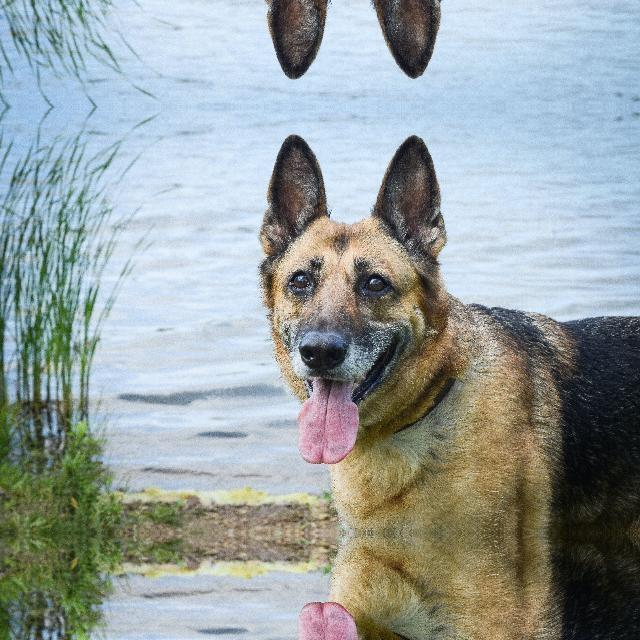dog: (242, 111, 640, 533), (242, 533, 640, 640), (242, 0, 640, 101)
